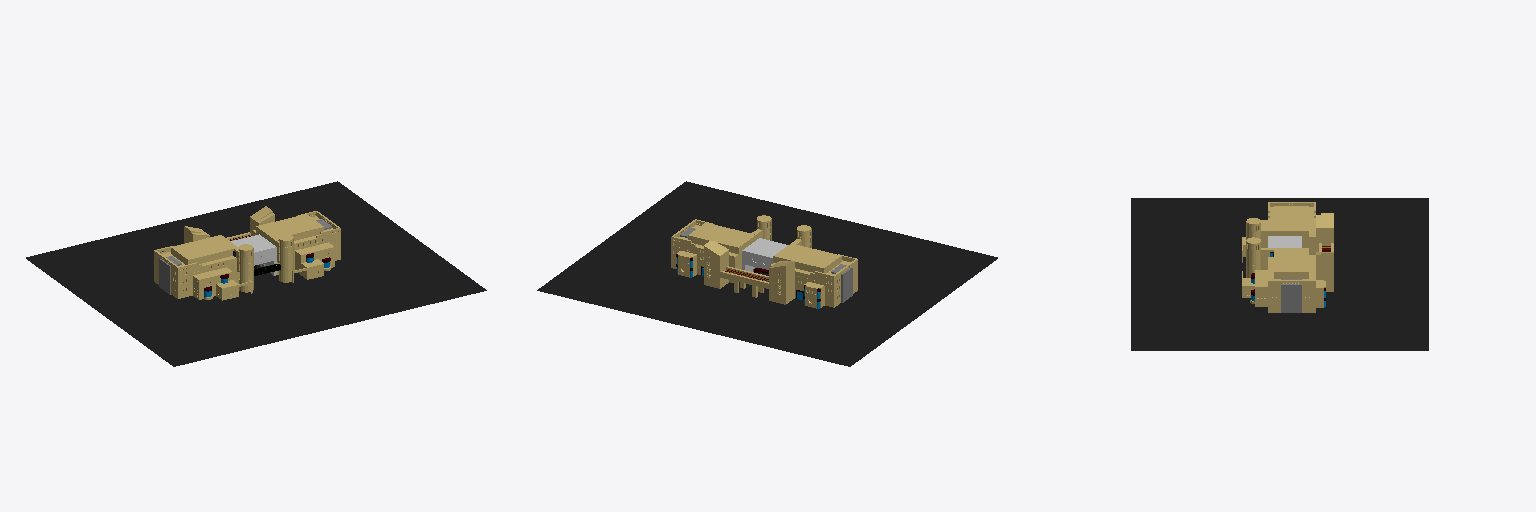
The model's file is gateway.obj.
The picture shows the model from 3 angles: view 1: azimuth 30°, elevation 25°; view 2: azimuth 150°, elevation 25°; view 3: azimuth 270°, elevation 25°; orthographic projection.
Visible parts, largest first — view 1: pPlane1, pCube196, pCube3, pCube2, pCube194, pCube160, pCylinder73, pCube271, pCylinder75, pCube130; view 2: pPlane1, pCube196, pCube2, pCube3, pCube194, pCube160, pCube300, pCube301; view 3: pPlane1, pCube194, pCube3, pCube2, pCube196, pCube115, pCylinder73.
Part boxes in pixels (bbox=[...]): pPlane1: bbox=[26, 181, 486, 366]; pCube196: bbox=[154, 246, 238, 298]; pCube3: bbox=[171, 235, 238, 264]; pCube2: bbox=[256, 214, 323, 243]; pCube194: bbox=[253, 211, 340, 274]; pCube160: bbox=[230, 234, 276, 275]; pCylinder73: bbox=[279, 235, 293, 282]; pCube271: bbox=[193, 267, 232, 299]; pCylinder75: bbox=[239, 244, 253, 292]; pCube130: bbox=[295, 242, 334, 267]; pPlane1: bbox=[537, 181, 997, 366]; pCube196: bbox=[770, 254, 857, 307]; pCube2: bbox=[688, 223, 755, 269]; pCube3: bbox=[773, 244, 841, 272]; pCube194: bbox=[671, 219, 738, 282]; pCube160: bbox=[742, 238, 787, 271]; pCube300: bbox=[769, 261, 791, 304]; pCube301: bbox=[704, 241, 726, 288]; pPlane1: bbox=[1131, 198, 1428, 350]; pCube194: bbox=[1268, 255, 1315, 312]; pCube3: bbox=[1274, 206, 1308, 247]; pCube2: bbox=[1274, 248, 1308, 278]; pCube196: bbox=[1268, 202, 1315, 254]; pCube115: bbox=[1281, 279, 1301, 312]; pCylinder73: bbox=[1246, 237, 1260, 277].
Bounding box in the file's own units: 35.88 × 5.19 × 29.6.